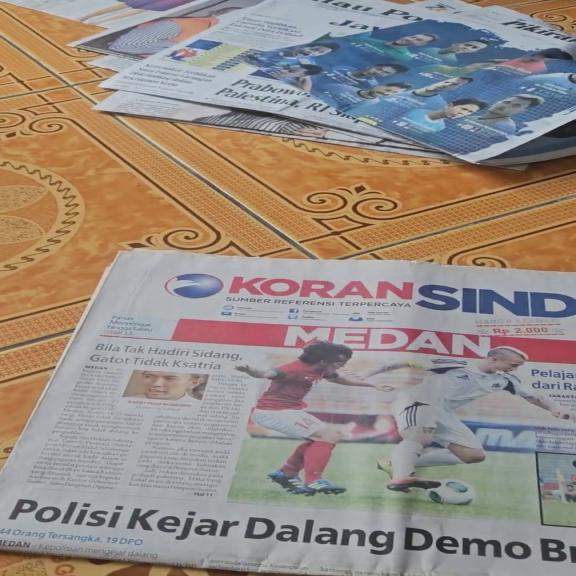Kertas: (130, 257, 564, 576), (86, 0, 569, 168)
